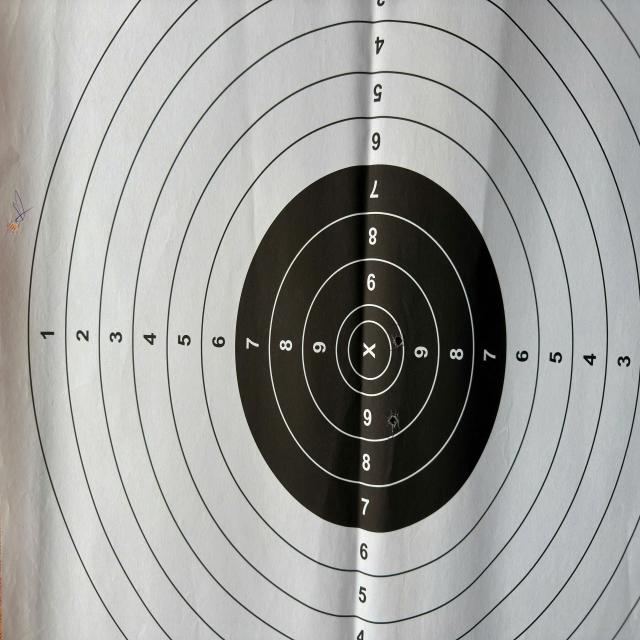bullet: (388, 416, 396, 428), (396, 336, 404, 347)
